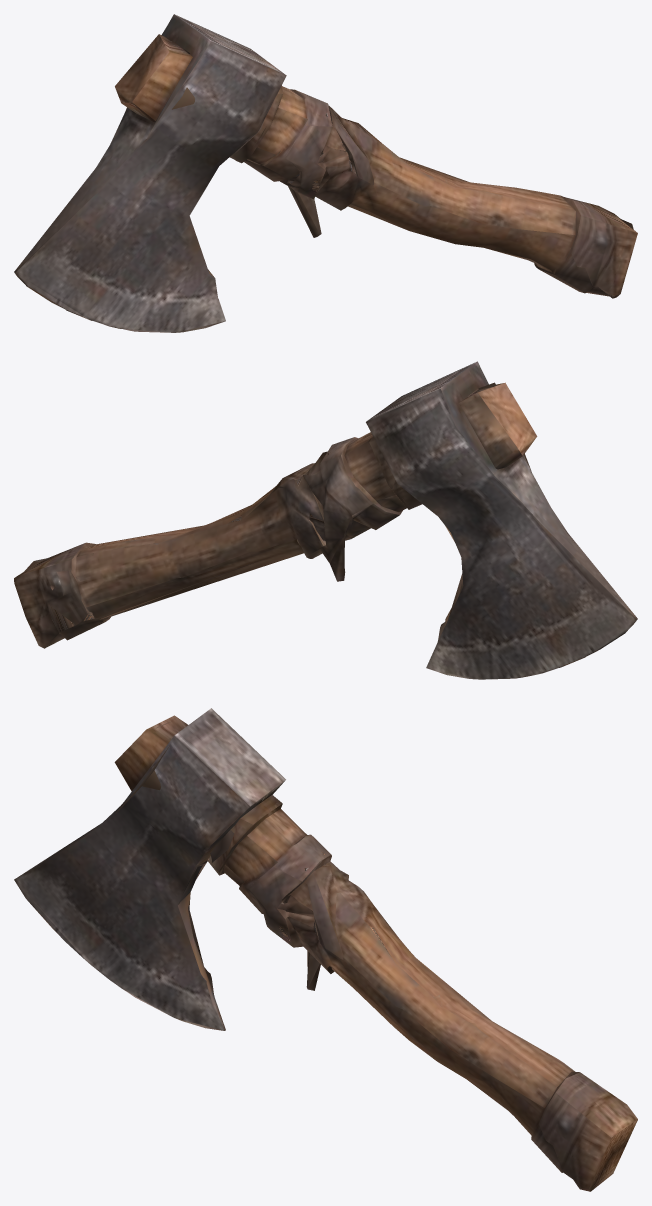
3 views of the same model, one above another, from view 1: azimuth 30°, elevation 25°; view 2: azimuth 150°, elevation 25°; view 3: azimuth 330°, elevation 25° (orthographic).
Parts seen in each view (by area): view 1: geometry_0; view 2: geometry_0; view 3: geometry_0.
Part boxes in pixels (bbox=[...]): geometry_0: bbox=[14, 14, 637, 332]; geometry_0: bbox=[14, 361, 637, 679]; geometry_0: bbox=[14, 708, 637, 1191].
Size of the model in its own units: 0.3486 by 0.1972 by 0.047.
1 material, 1 textured.
